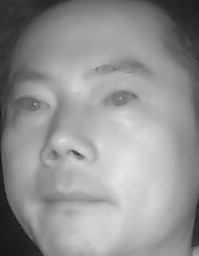eye: (12, 89, 53, 118), (101, 86, 142, 113)
mouth: (40, 178, 117, 223)
